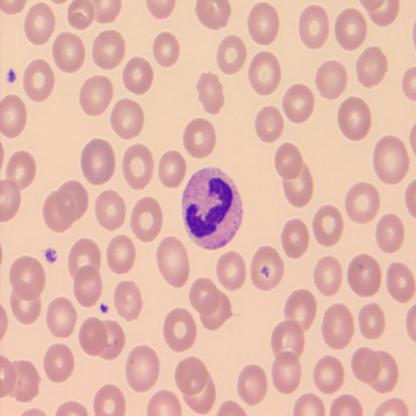Segmented neutrophil: (180, 164, 245, 251)
